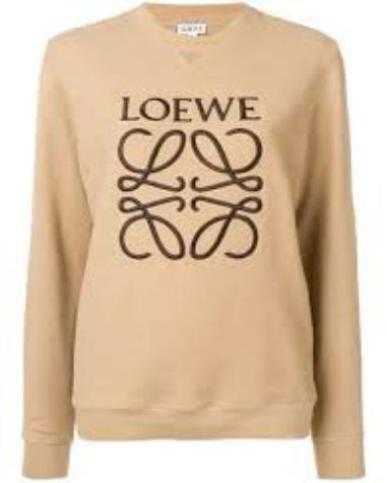LOEWE: (103, 86, 271, 279)
